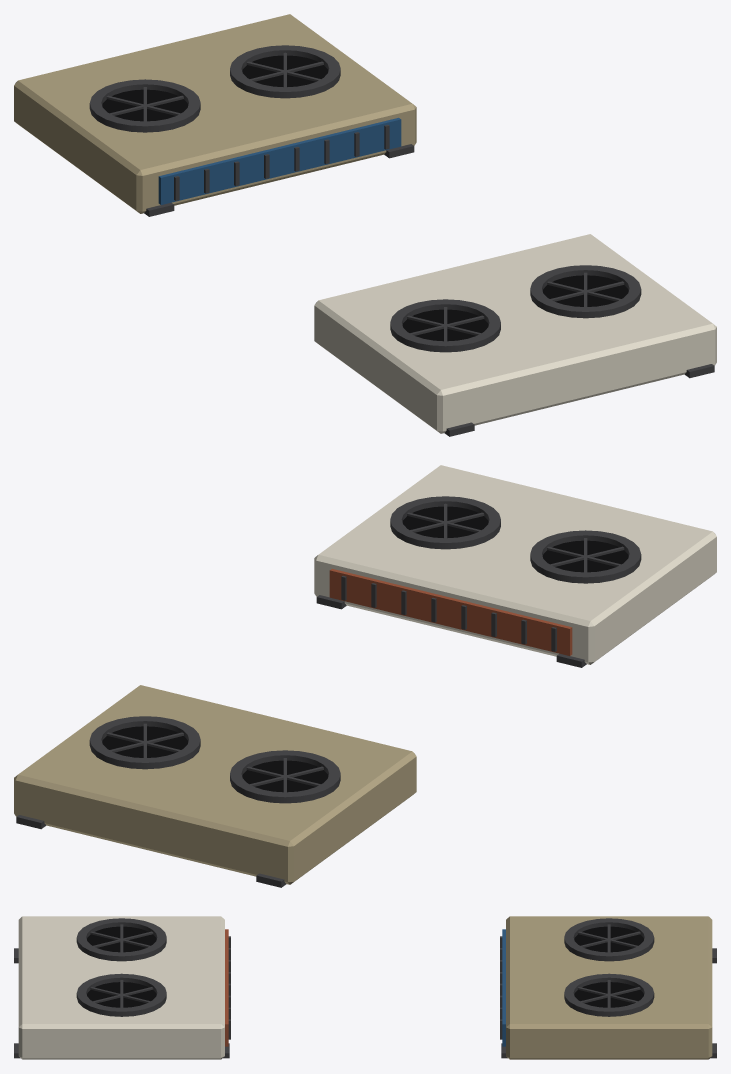
File: pax100_climate.obj
3 views of the same model, one above another, from view 1: azimuth 30°, elevation 25°; view 2: azimuth 150°, elevation 25°; view 3: azimuth 270°, elevation 25° (orthographic). The views are drawn at different scales.
Visible parts, largest first — view 1: pax100_climate; view 2: pax100_climate; view 3: pax100_climate.
Part boxes in pixels (bbox=[...]): pax100_climate: bbox=[14, 14, 716, 436]; pax100_climate: bbox=[14, 465, 716, 887]; pax100_climate: bbox=[14, 916, 716, 1059].
Size of the model in its own units: 2.8 by 0.48 by 7.5.
